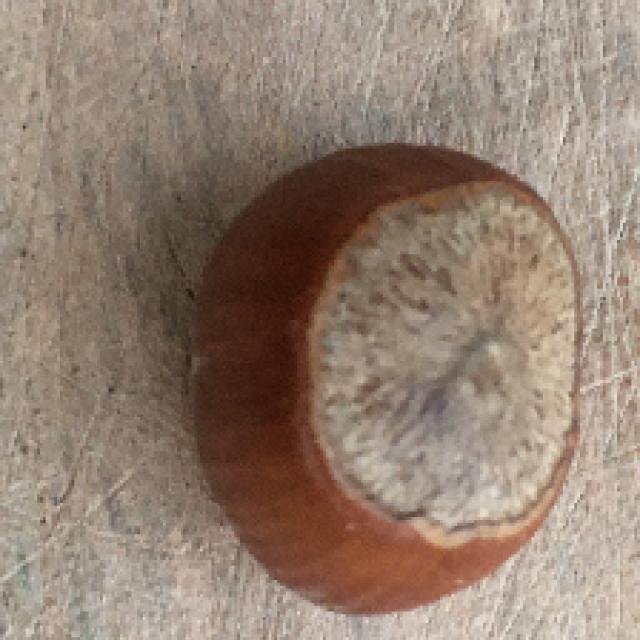qualityHazelnut: (171, 139, 586, 624)
